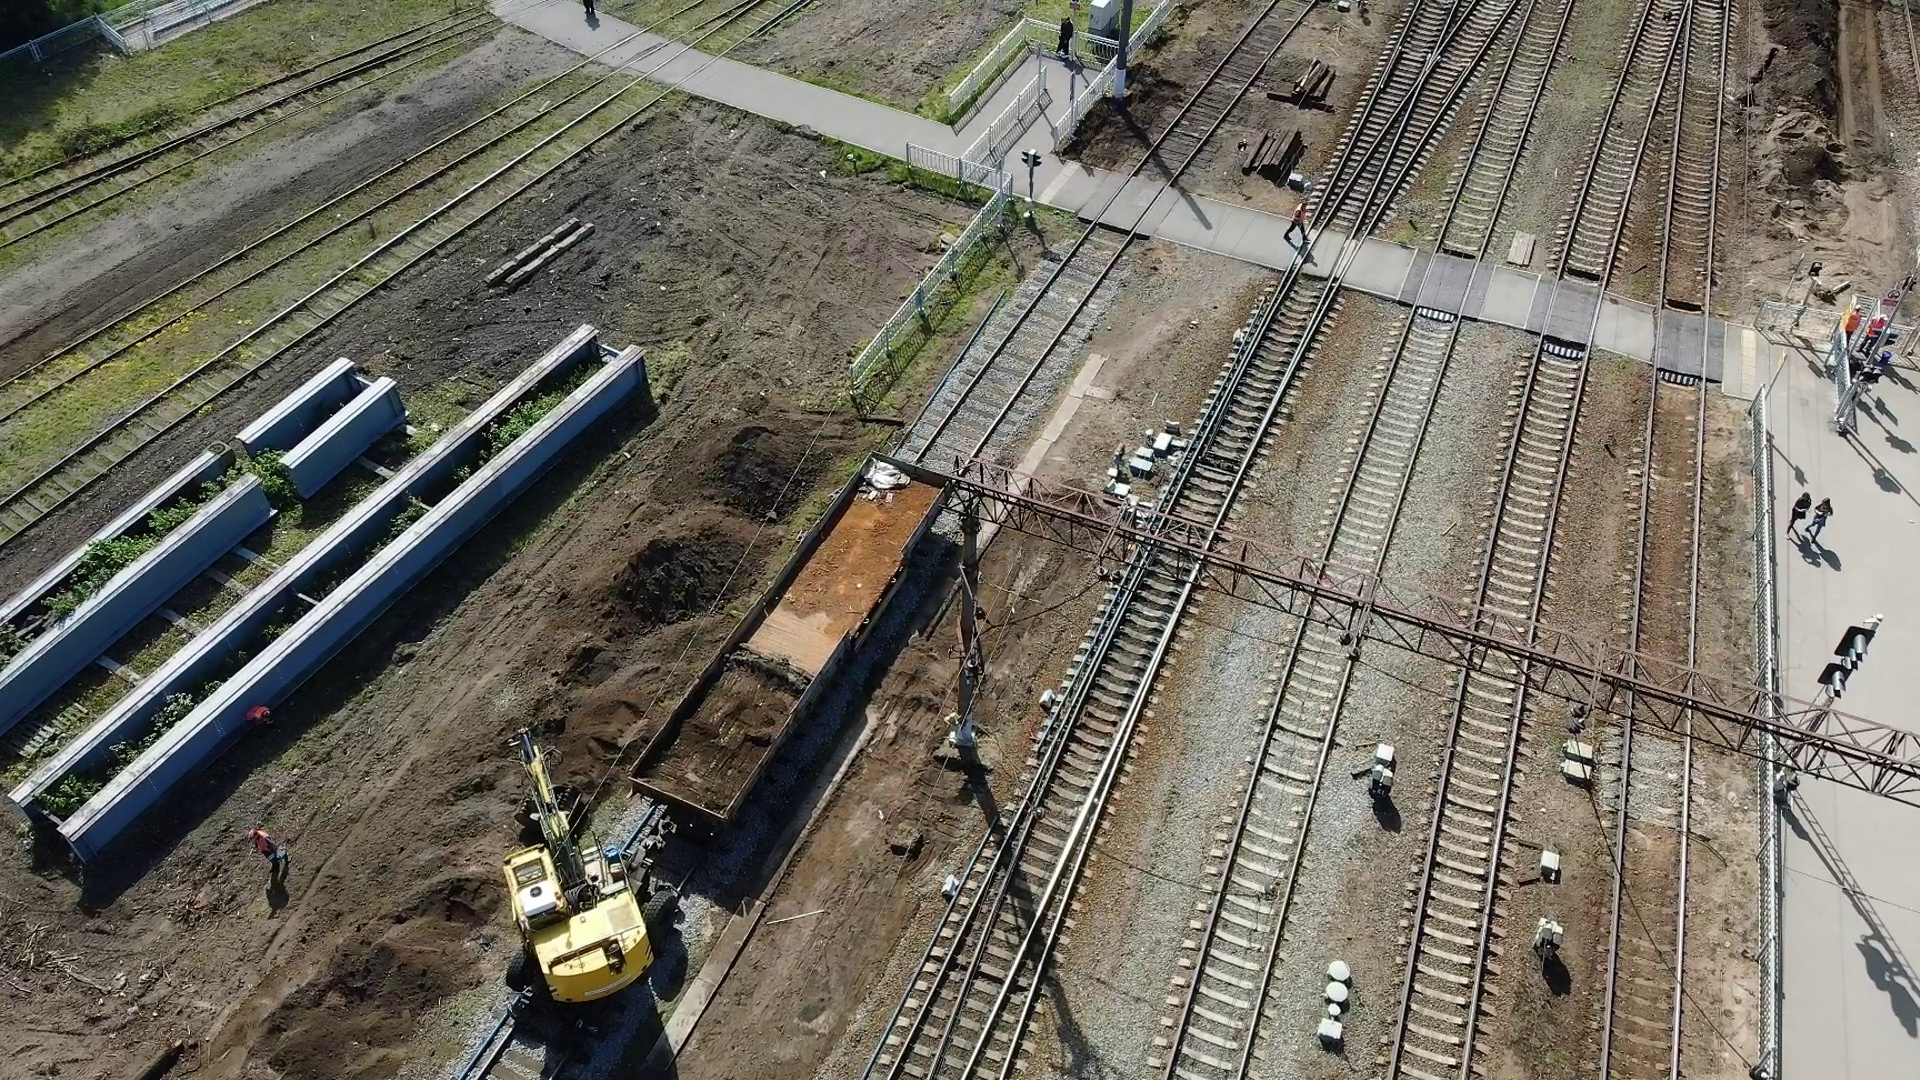kjtv: (506, 837, 693, 1021)
